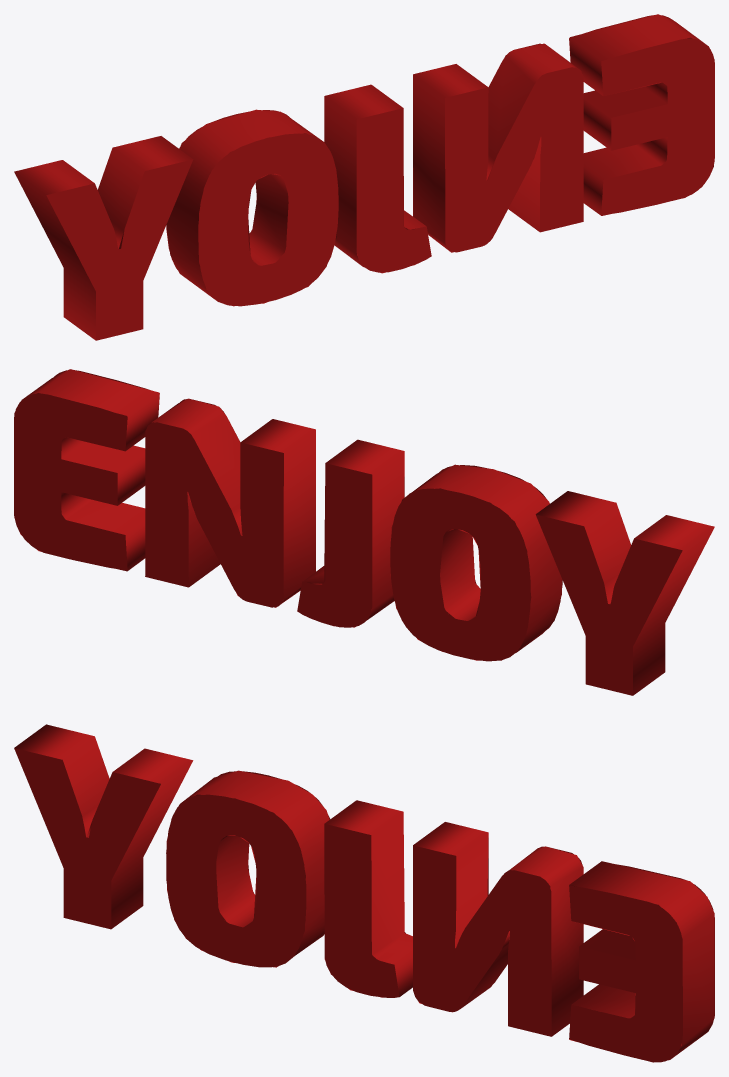
The model's file is enjoy.fbx.
The picture shows the model from 3 angles, top to bottom: view 1: azimuth 30°, elevation 25°; view 2: azimuth 150°, elevation 25°; view 3: azimuth 330°, elevation 25°; orthographic projection.
Parts seen in each view (by area): view 1: Text; view 2: Text; view 3: Text.
Boxes of the visible parts, x1,y1,x2,y2 form: Text: (14, 14, 714, 340); Text: (14, 369, 714, 695); Text: (14, 724, 714, 1062).
Size of the model in its own units: 9.59 by 2.26 by 0.8.
